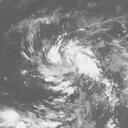cyclone: (42, 39, 100, 94)
